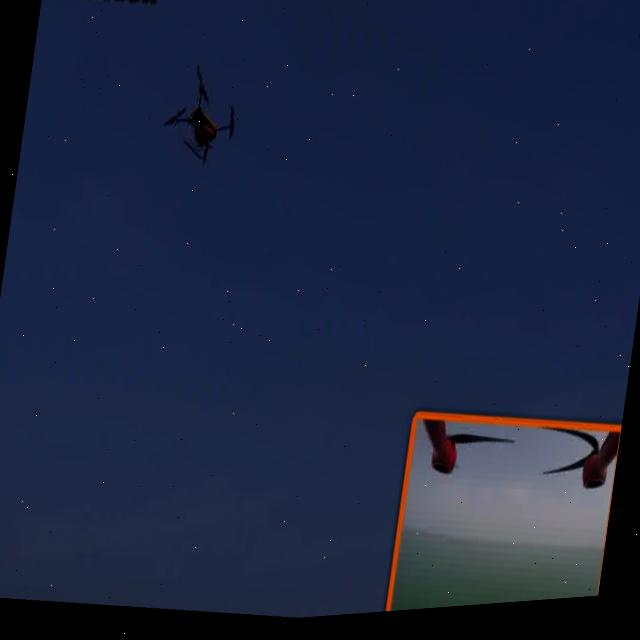drone: (149, 56, 254, 176)
